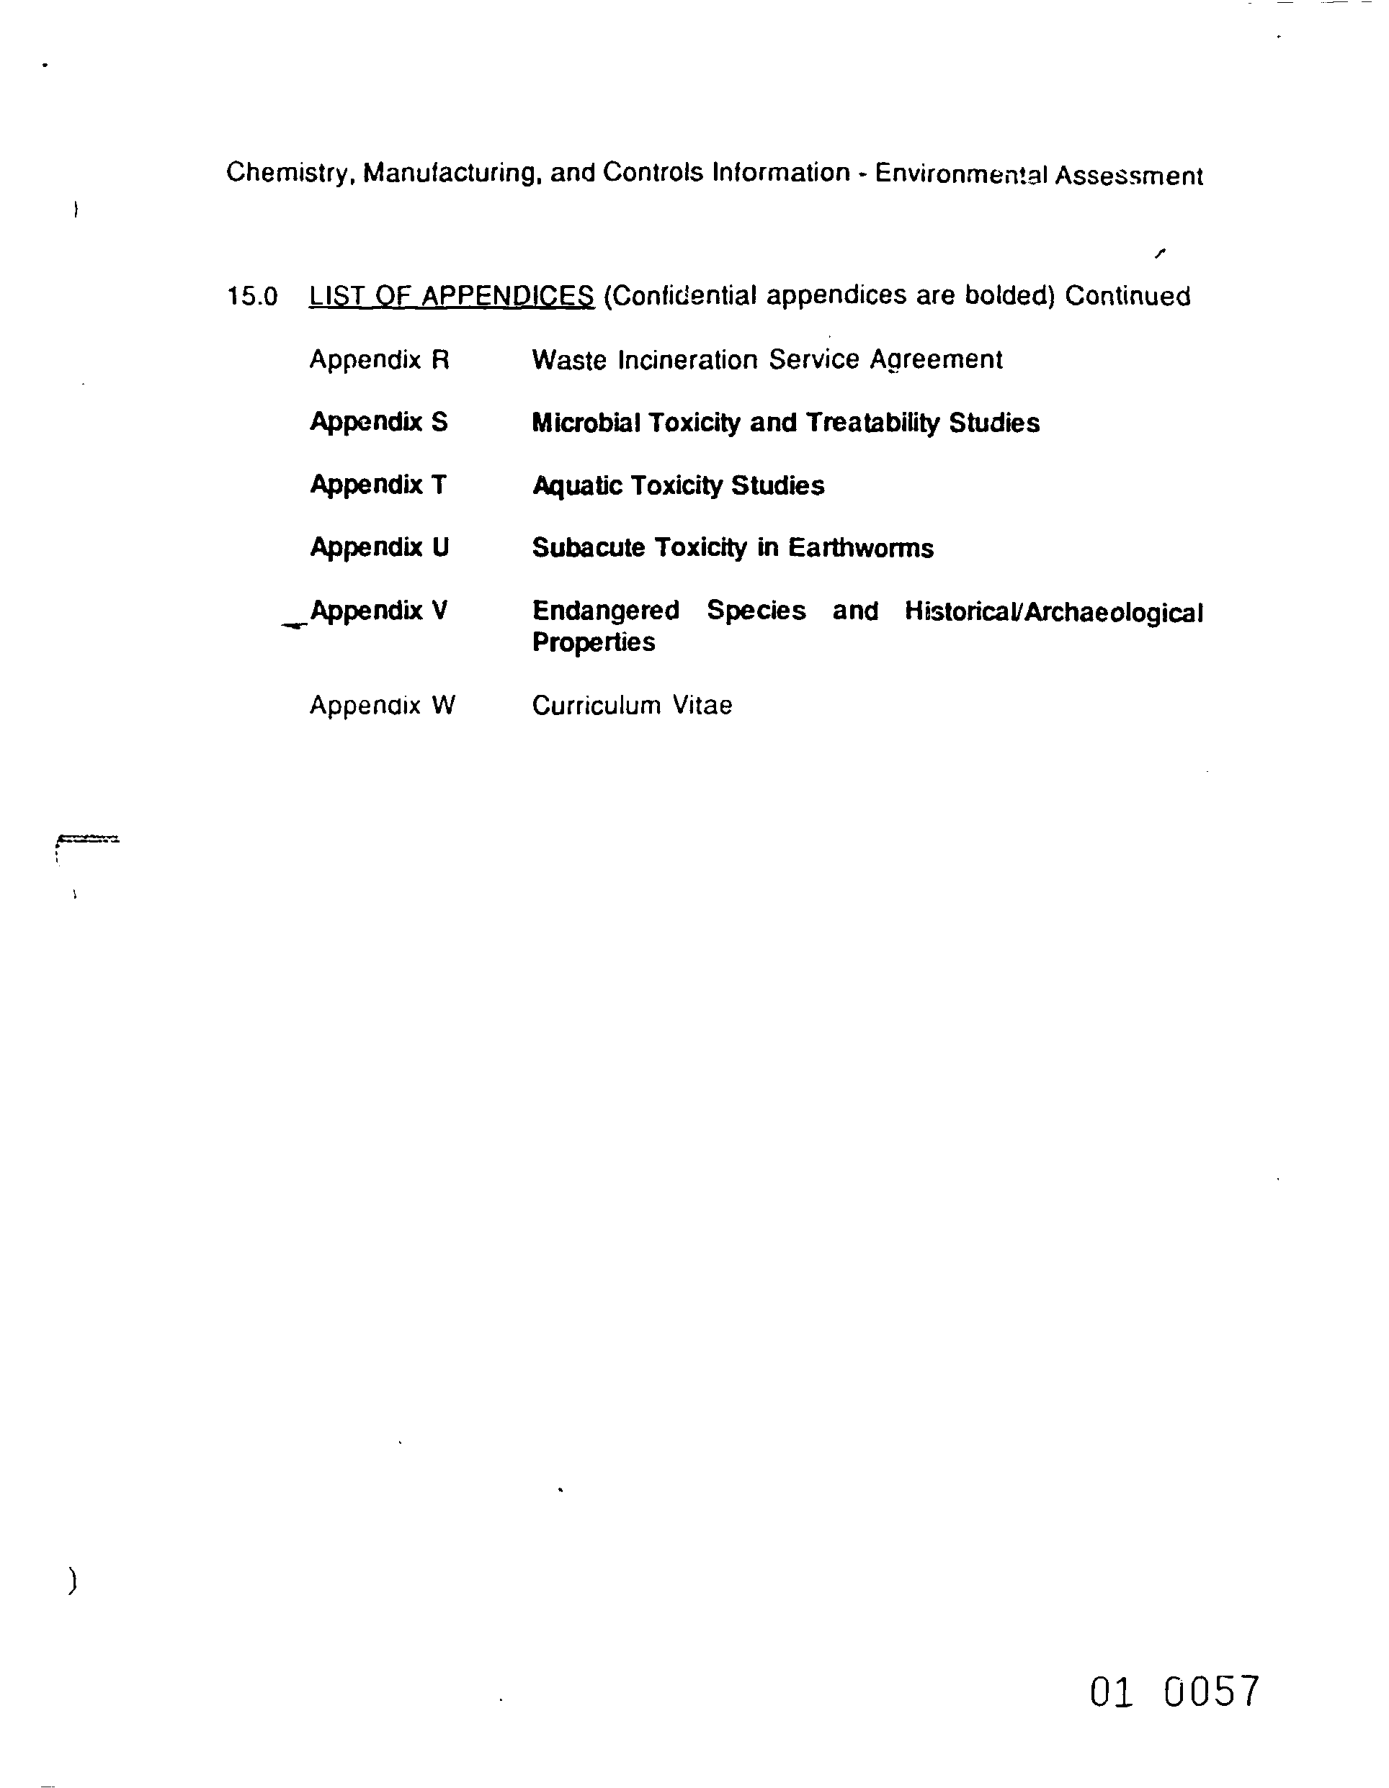nolines: (222, 282, 1209, 729)
